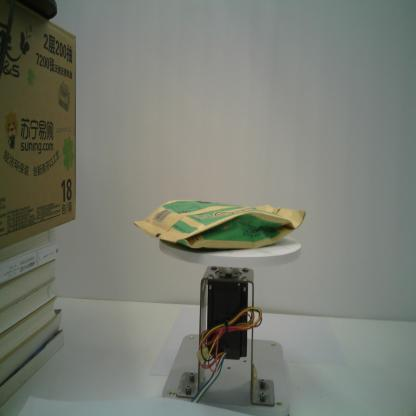Dried Food: (133, 198, 307, 252)
